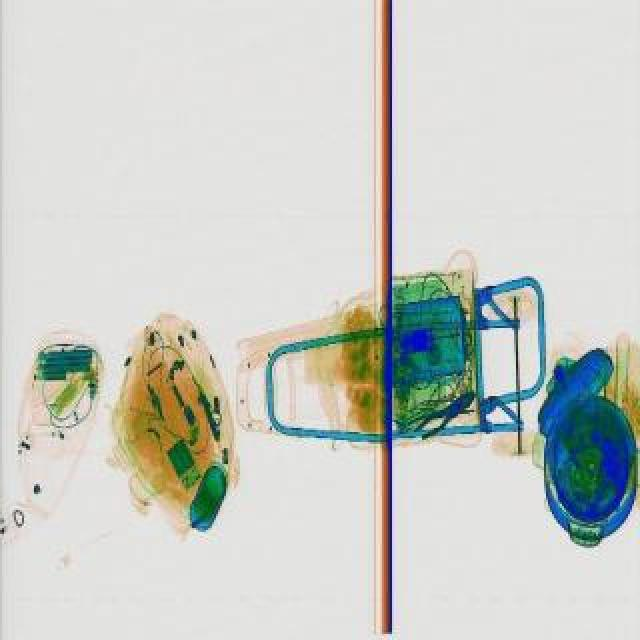wrench: (408, 384, 484, 442)
